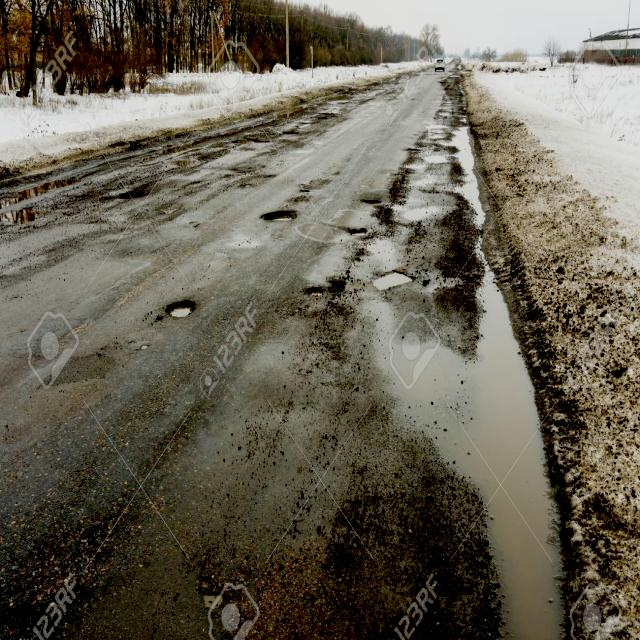Pothole: (242, 172, 352, 236), (155, 296, 206, 331)
